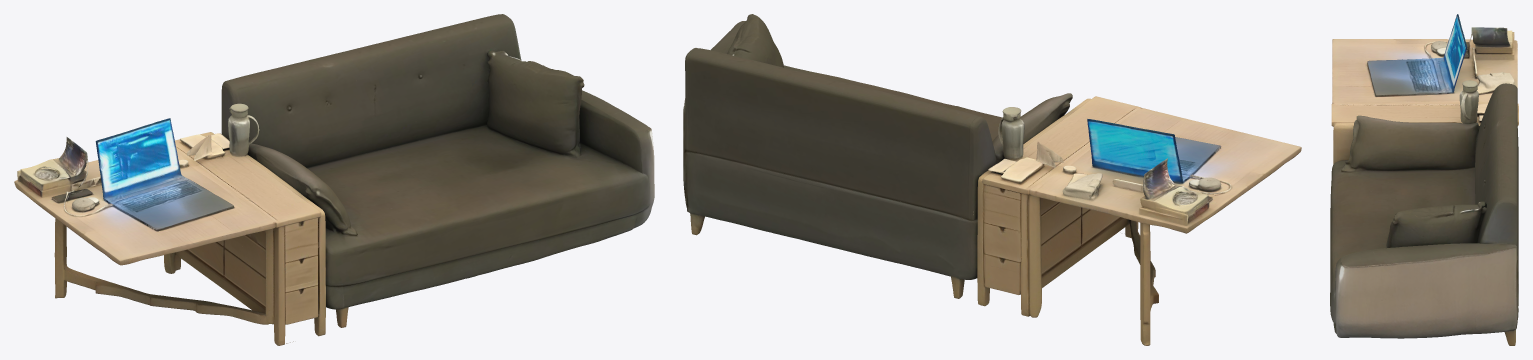
The model's file is corner.glb.
3 views of the same model, side by side, from view 1: azimuth 30°, elevation 25°; view 2: azimuth 150°, elevation 25°; view 3: azimuth 270°, elevation 25° (orthographic). The views are drawn at different scales.
Visible parts, largest first — view 1: model; view 2: model; view 3: model.
Boxes of the visible parts, left/top/right/bottom form: model: left=14, top=14, right=654, bottom=345; model: left=683, top=14, right=1301, bottom=345; model: left=1330, top=14, right=1518, bottom=345.
Bounding box in the file's own units: 1.9 × 0.603 × 0.6759.
Materials: 1 (1 with a texture image).
